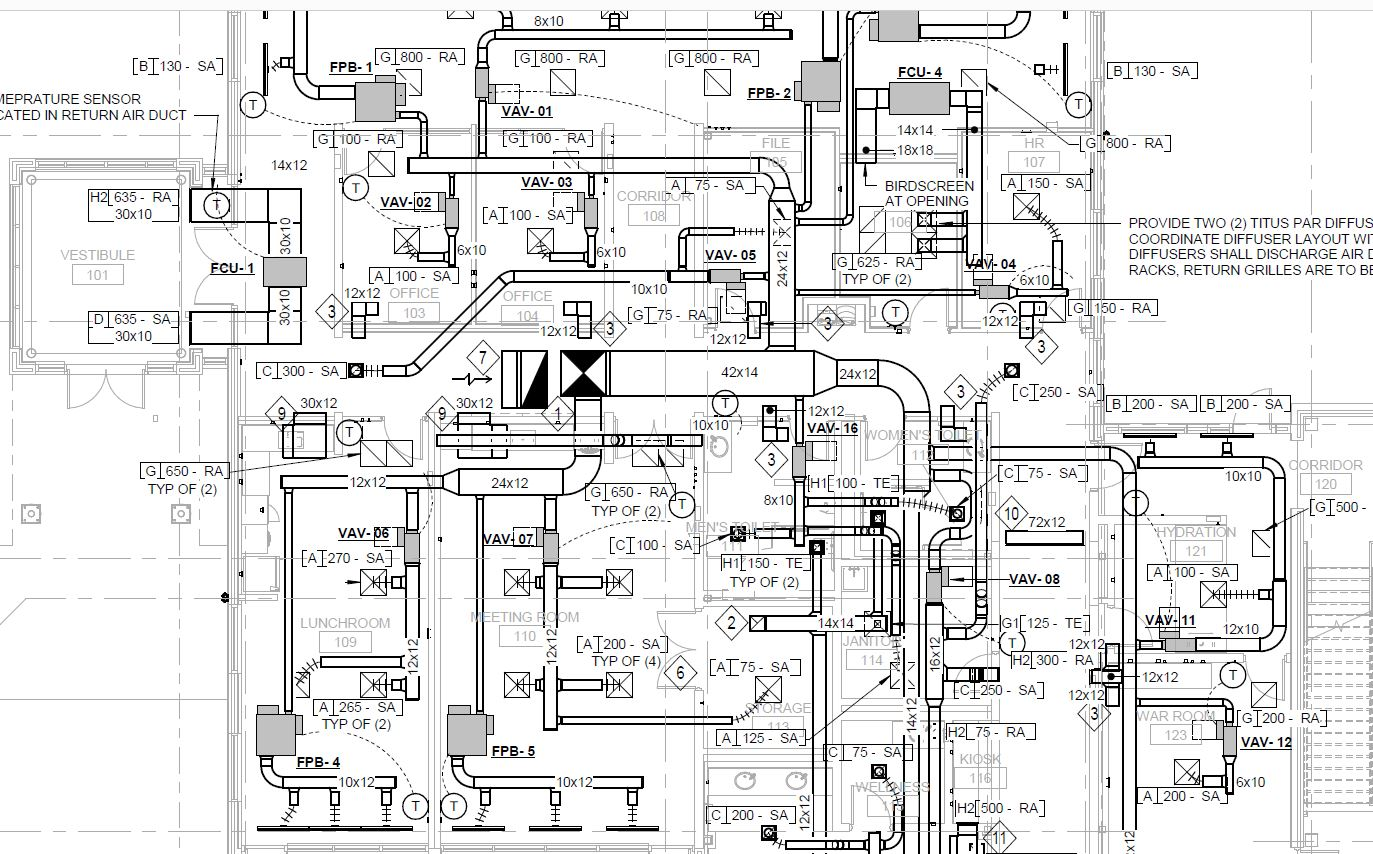VAV Box: (1143, 625, 1211, 669), (392, 509, 436, 575), (531, 504, 567, 575), (573, 183, 615, 242), (463, 60, 505, 115), (437, 180, 470, 246), (962, 277, 1031, 305), (921, 556, 955, 611), (1211, 711, 1245, 765), (698, 263, 763, 290), (787, 439, 819, 483)
